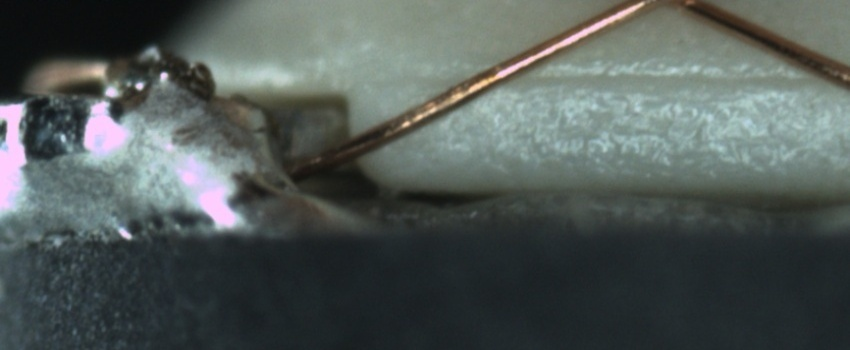CL: (617, 0, 712, 16)
DL: (386, 48, 849, 111)
TE: (29, 51, 118, 100)
